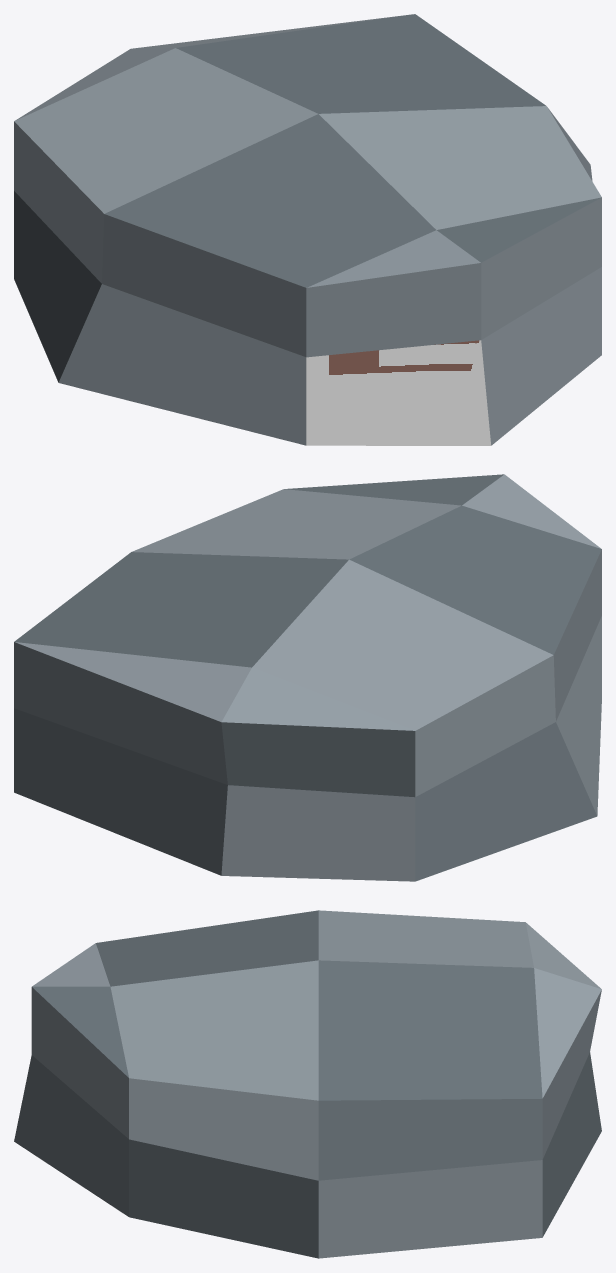
File: RockGreyBlue1.fbx
3 renders of one model, top to bottom at view 1: azimuth 30°, elevation 25°; view 2: azimuth 150°, elevation 25°; view 3: azimuth 270°, elevation 25°, orthographic. The views are drawn at different scales.
Parts seen in each view (by area): view 1: pCube2; view 2: pCube2; view 3: pCube2.
Part boxes in pixels (bbox=[...]): pCube2: bbox=[14, 14, 601, 445]; pCube2: bbox=[14, 474, 601, 881]; pCube2: bbox=[14, 910, 601, 1258].
Size of the model in its own units: 1.69 by 0.6288 by 1.84.
